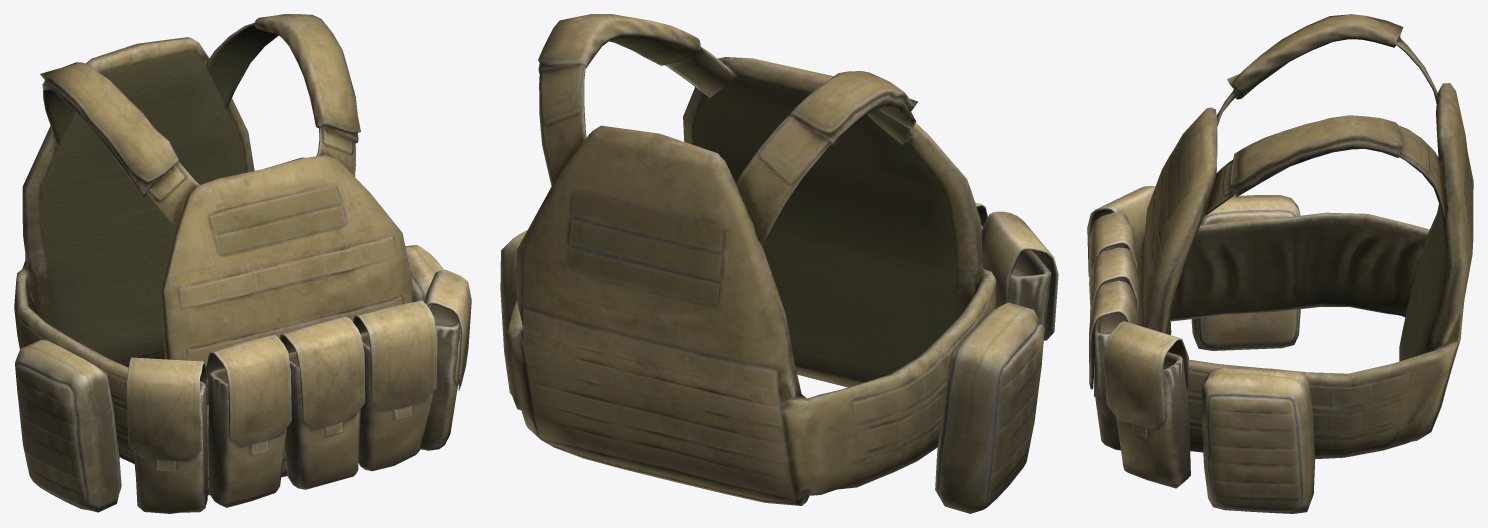
Rendered from vest.glb.
The picture shows the model from 3 angles, left to right: view 1: azimuth 30°, elevation 25°; view 2: azimuth 150°, elevation 25°; view 3: azimuth 270°, elevation 25°; orthographic projection. The views are drawn at different scales.
Parts seen in each view (by area): view 1: Plate Low Poly_Material #34_0, Podsumki; view 2: Plate Low Poly_Material #34_0, Podsumki; view 3: Plate Low Poly_Material #34_0, Podsumki.
Part boxes in pixels (box(x1,y1,x2,y2)): Plate Low Poly_Material #34_0: box(14, 14, 412, 495); Podsumki: box(15, 245, 471, 513); Plate Low Poly_Material #34_0: box(505, 14, 996, 505); Podsumki: box(500, 202, 1058, 513); Plate Low Poly_Material #34_0: box(1137, 14, 1473, 459); Podsumki: box(1087, 186, 1315, 513).
Bounding box in the file's own units: 0.6918 × 0.5854 × 0.57.
2 materials, 2 textured.
